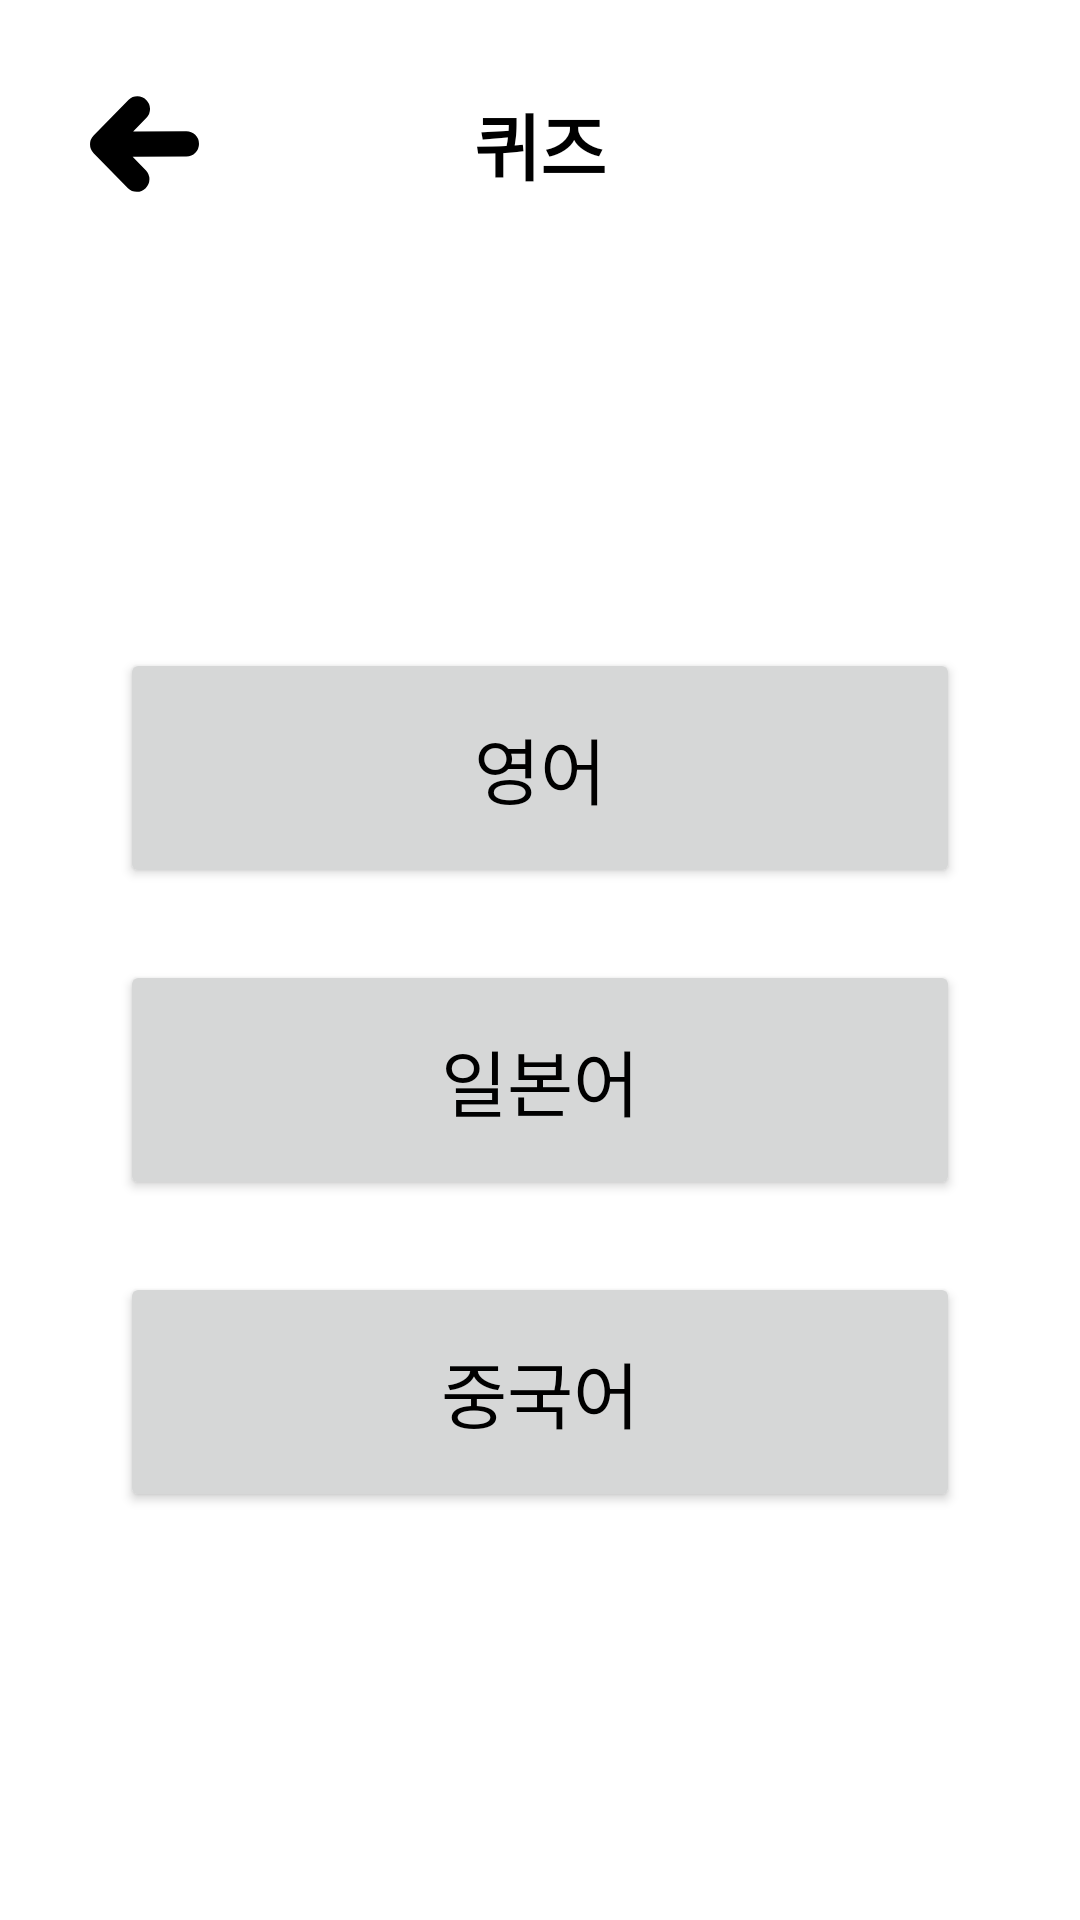

Named icons in this screenshot (1080×1920) and their centers, [x,y]:
뒤로가기: [144,144]
